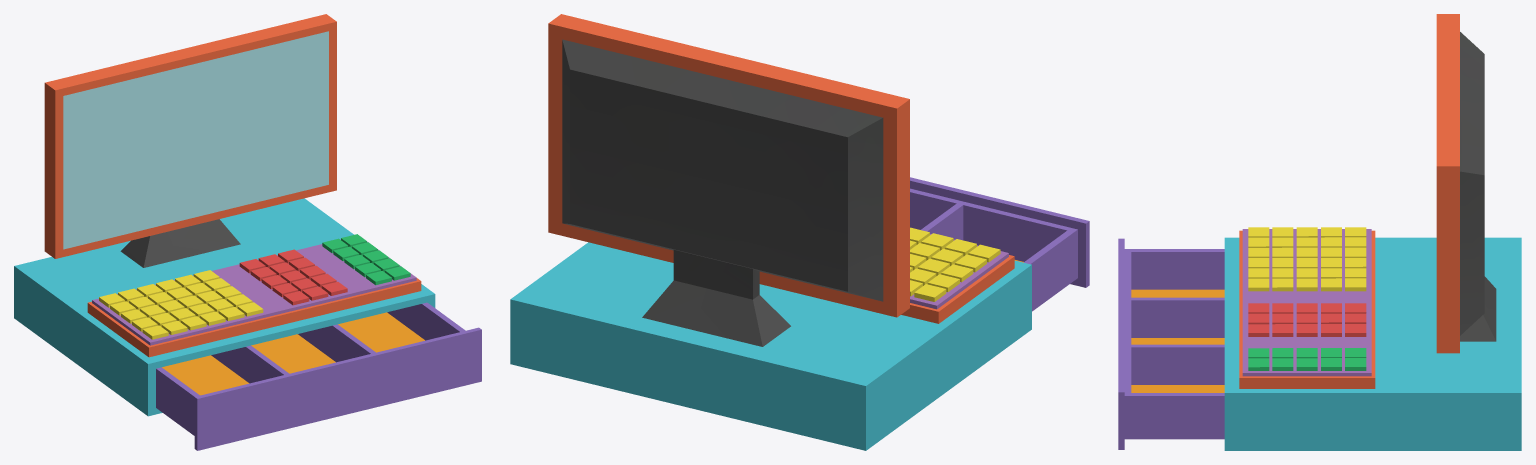
Rendered from Case lv2.fbx.
3 views of the same model, side by side, from view 1: azimuth 30°, elevation 25°; view 2: azimuth 150°, elevation 25°; view 3: azimuth 270°, elevation 25° (orthographic). The views are drawn at different scales.
Visible parts, largest first — view 1: Case_lv2; view 2: Case_lv2; view 3: Case_lv2.
Part boxes in pixels (x1,y1,x2,y2): Case_lv2: (14,14,481,450); Case_lv2: (510,14,1089,450); Case_lv2: (1118,14,1521,450).
Bounding box in the file's own units: 90.07 × 76.53 × 98.85.
